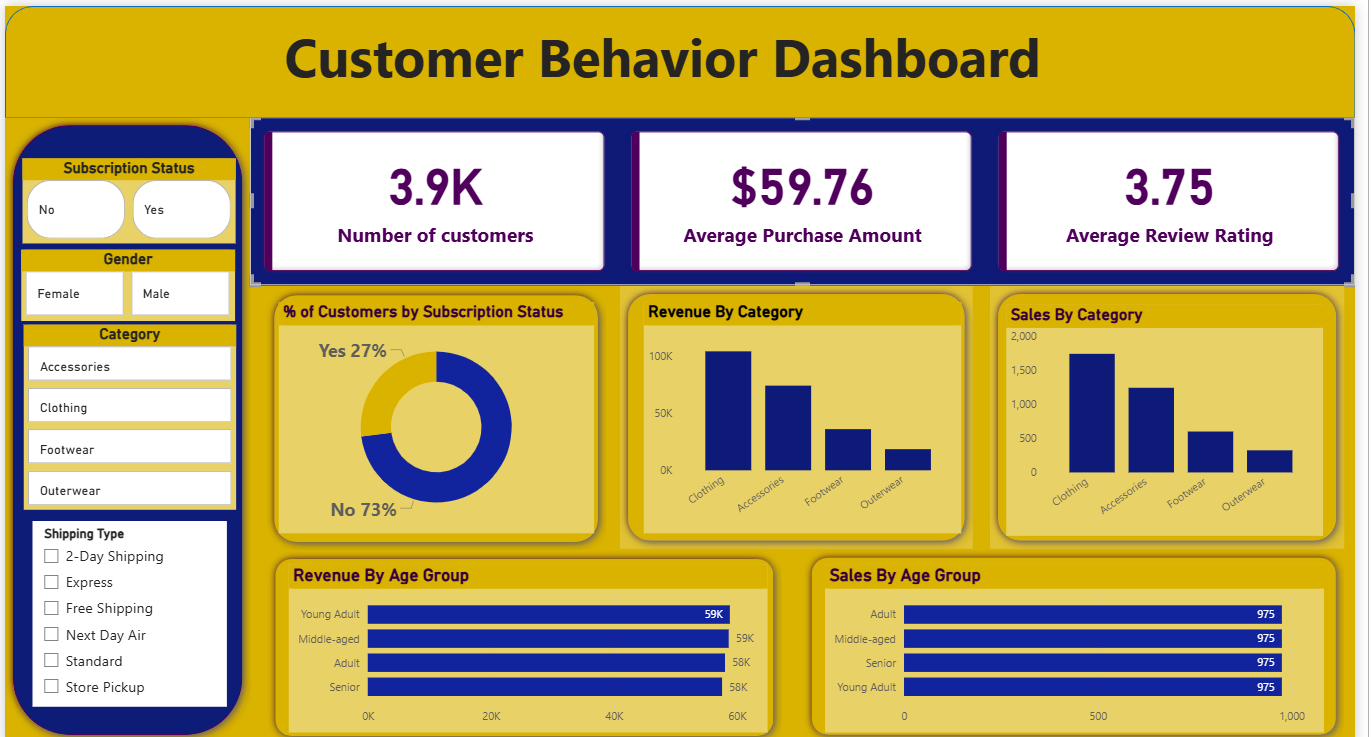

The dashboard page shown, as its layout file describes it:
{"tool":"powerbi","page":{"name":"Page 1","canvas":[1500,820],"ordinal":0},"visuals":[{"type":"cardVisual","fields":{"Data":["public customer.Number of customers","public customer.Average Purchase Amount","public customer.Average Review Rating"]},"box":[272.6,124.2,1227.7,187.1],"z":0},{"type":"shape","box":[0,0,1500.3,124.2],"z":1000},{"type":"textbox","box":[104.9,11.3,1250.3,150],"z":2000},{"type":"shape","box":[290.4,313,377.5,292],"z":3000},{"type":"donutChart","title":"% of Customers by Subscription Status","fields":{"Category":["public customer.Subscription Status"],"Y":["CountNonNull(public customer.Customer ID)"]},"box":[303.7,329.8,350.4,256.9],"z":4000},{"type":"shape","box":[684,311.4,392,292],"z":5000},{"type":"shape","box":[1093.8,311.4,393.6,292],"z":6000},{"type":"clusteredColumnChart","title":"Revenue By Category","fields":{"Y":["Sum(public customer.Purchase Amount (USD))"],"Category":["public customer.Category"]},"box":[710.4,329.8,353.1,256.9],"z":7000},{"type":"clusteredColumnChart","title":"Sales By Category","fields":{"Category":["public customer.Category"],"Y":["CountNonNull(public customer.Customer ID)"]},"box":[1113.1,332.3,351.7,256.5],"z":8000},{"type":"shape","box":[0,124.2,272.6,695.3],"z":9000},{"type":"advancedSlicerVisual","fields":{"Values":["public customer.Subscription Status"]},"box":[19.5,169.9,236.8,94.7],"z":10000},{"type":"advancedSlicerVisual","fields":{"Values":["public customer.Gender"]},"box":[18.1,270.8,237.5,79.2],"z":11000},{"type":"advancedSlicerVisual","fields":{"Values":["public customer.Category"]},"box":[20.8,354.2,236.1,205.6],"z":12000},{"type":"slicer","fields":{"Values":["public customer.Shipping Type"]},"box":[30.7,572.7,216.2,206.5],"z":13000},{"type":"shape","box":[291.1,605.8,571,214.5],"z":14000},{"type":"clusteredBarChart","title":"Revenue By Age Group","fields":{"Y":["Sum(public customer.Purchase Amount (USD))"],"Category":["public customer.age_groups"]},"box":[314.7,621.1,532,186.6],"z":15000},{"type":"shape","box":[887.1,604.4,600.2,214.5],"z":16000},{"type":"clusteredBarChart","title":"Sales By Age Group","fields":{"Y":["CountNonNull(public customer.Customer ID)"],"Category":["public customer.age_groups"]},"box":[910.8,621.1,554.3,186.6],"z":17000}]}

Visuals, with their boxes in screenshot pixels (x1, y1, x2, y2), scaled from the page's 1500x820 canvas onto the 1371x737 screenshot:
cardVisual - public customer.Number of customers x public customer.Average Purchase Amount: left=249, top=112, right=1370, bottom=280
shape: left=0, top=0, right=1370, bottom=112
textbox: left=96, top=10, right=1239, bottom=145
shape: left=265, top=281, right=610, bottom=544
"% of Customers by Subscription Status" donutChart: left=278, top=296, right=598, bottom=527
shape: left=625, top=280, right=983, bottom=542
shape: left=1000, top=280, right=1359, bottom=542
"Revenue By Category" clusteredColumnChart: left=649, top=296, right=972, bottom=527
"Sales By Category" clusteredColumnChart: left=1017, top=299, right=1339, bottom=529
shape: left=0, top=112, right=249, bottom=736
advancedSlicerVisual - public customer.Subscription Status: left=18, top=153, right=234, bottom=238
advancedSlicerVisual - public customer.Gender: left=17, top=243, right=234, bottom=315
advancedSlicerVisual - public customer.Category: left=19, top=318, right=235, bottom=503
slicer - public customer.Shipping Type: left=28, top=515, right=226, bottom=700
shape: left=266, top=544, right=788, bottom=736
"Revenue By Age Group" clusteredBarChart: left=288, top=558, right=774, bottom=726
shape: left=811, top=543, right=1359, bottom=736
"Sales By Age Group" clusteredBarChart: left=832, top=558, right=1339, bottom=726
